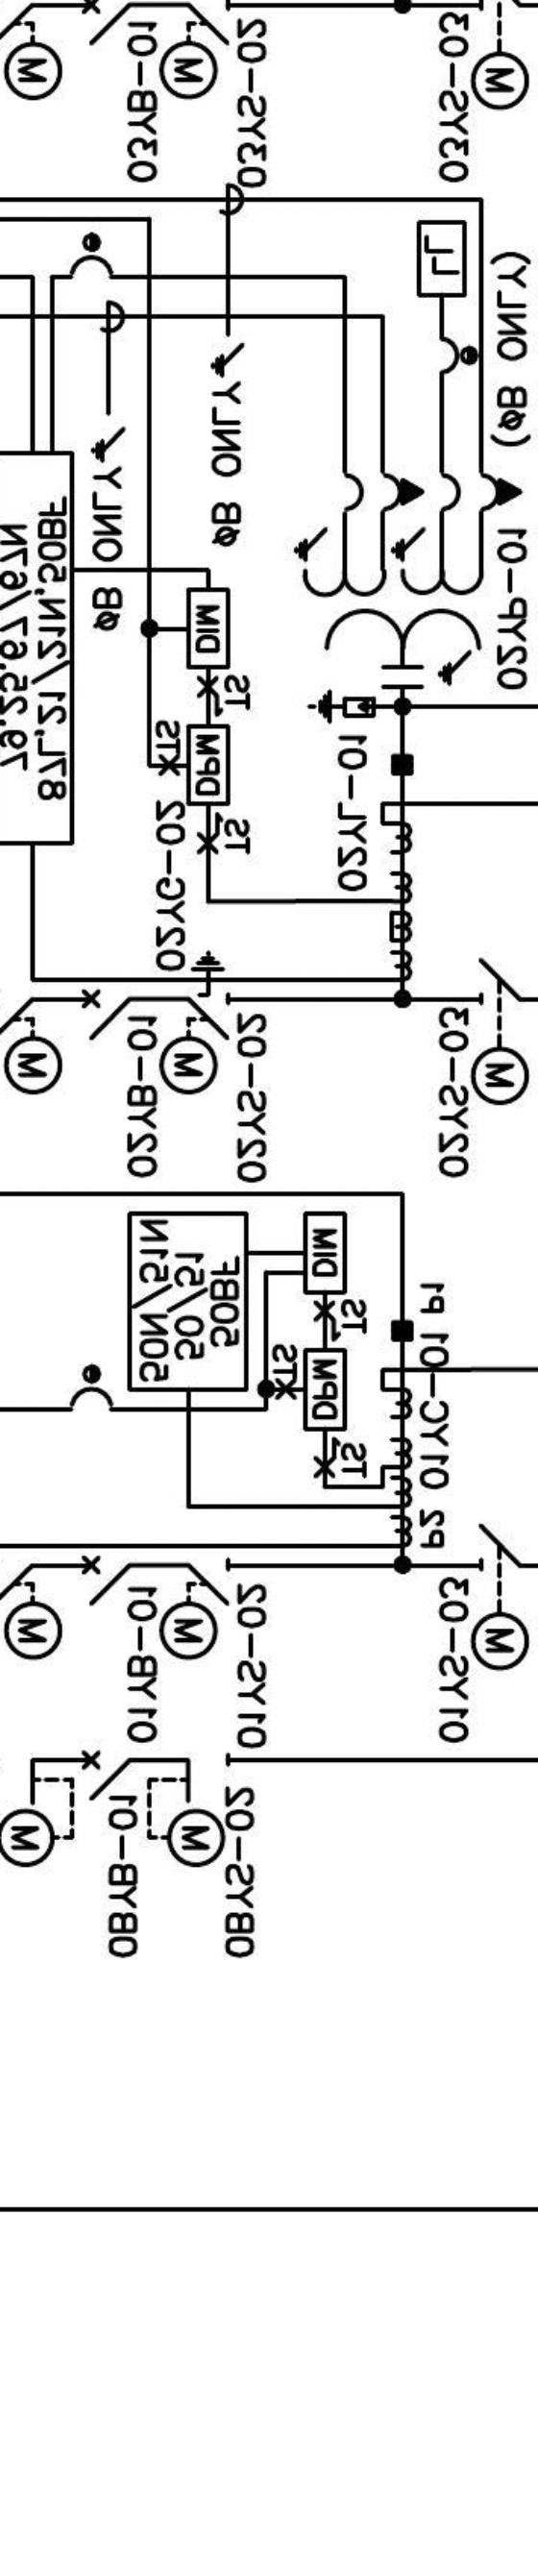115_1way_ds_w_motor: (146, 1751, 231, 1870), (469, 1523, 531, 1672), (469, 956, 531, 1106), (157, 1557, 231, 1663)
115_3ways_ds_w_motor: (157, 950, 231, 1096)
115_breaker: (80, 1554, 133, 1608), (80, 1750, 133, 1802), (82, 989, 131, 1042)
115_cvt_1p: (292, 470, 523, 690)
115_la: (307, 688, 377, 724)
DIM: (185, 586, 231, 670), (303, 1211, 348, 1296)
DPM: (302, 1347, 348, 1433), (185, 724, 231, 807)
LL: (417, 220, 467, 297)
